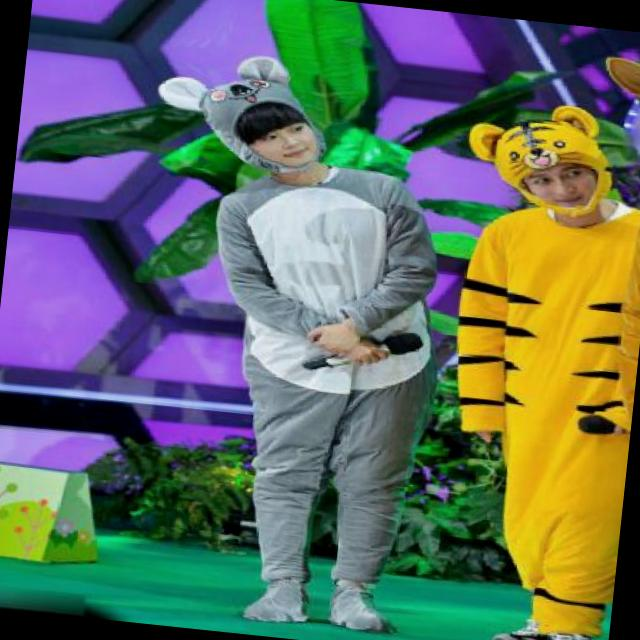Person: (81, 32, 465, 635), (422, 101, 640, 640)
